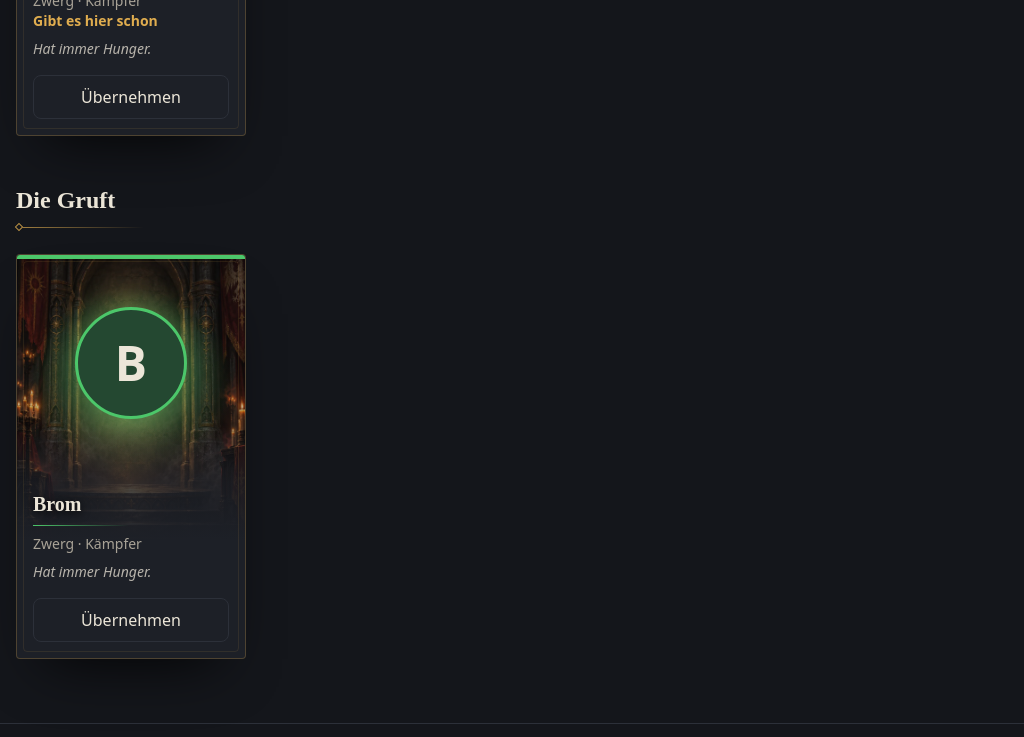
Test case: CharacterImportPage › shows the viewer’s other characters by campaign and copies one on its button
(page scrolled)
Expected: the text "Gibt es hier schon" is shown, [33,11,158,30]
Click the button "Übernehmen" below "Brom".
click(131, 620)  # box [33,598,229,642]
(page scrolled)
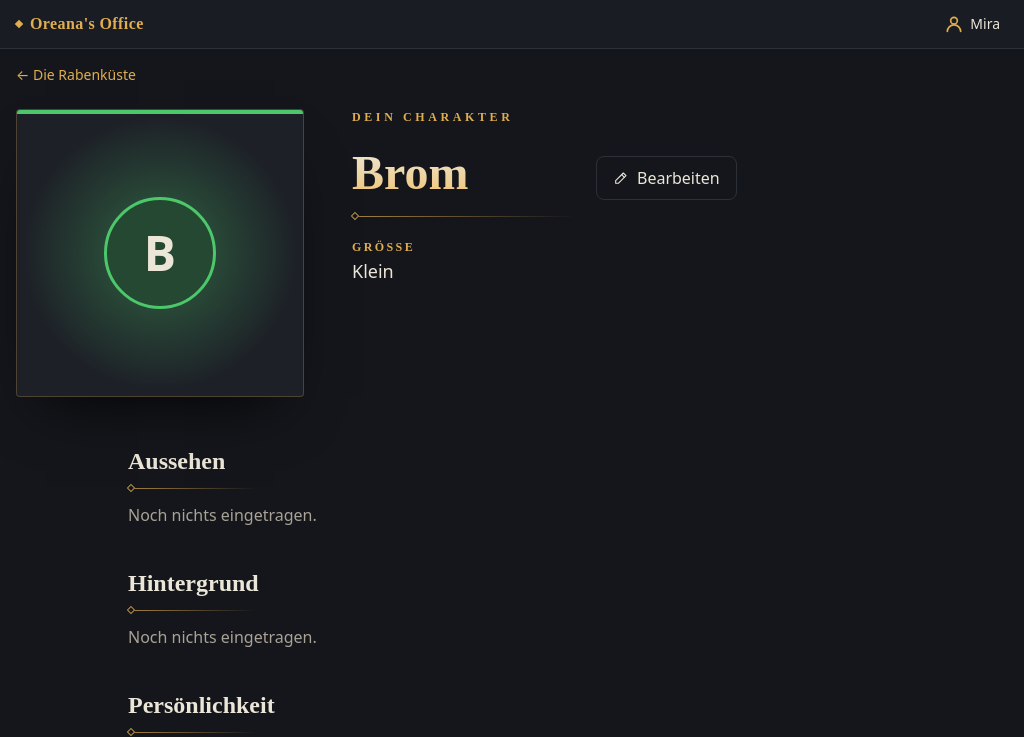
Now the heading "Brom" is shown, box [352,149,576,197]
